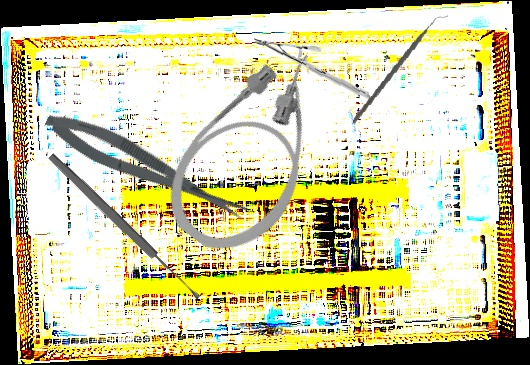Cannula: (146, 31, 368, 273)
Chopper: (353, 5, 448, 134)
Micro Scissor: (39, 101, 252, 234)
Needle Holder: (254, 31, 370, 105)
Surgical Spoon: (46, 151, 203, 303)
